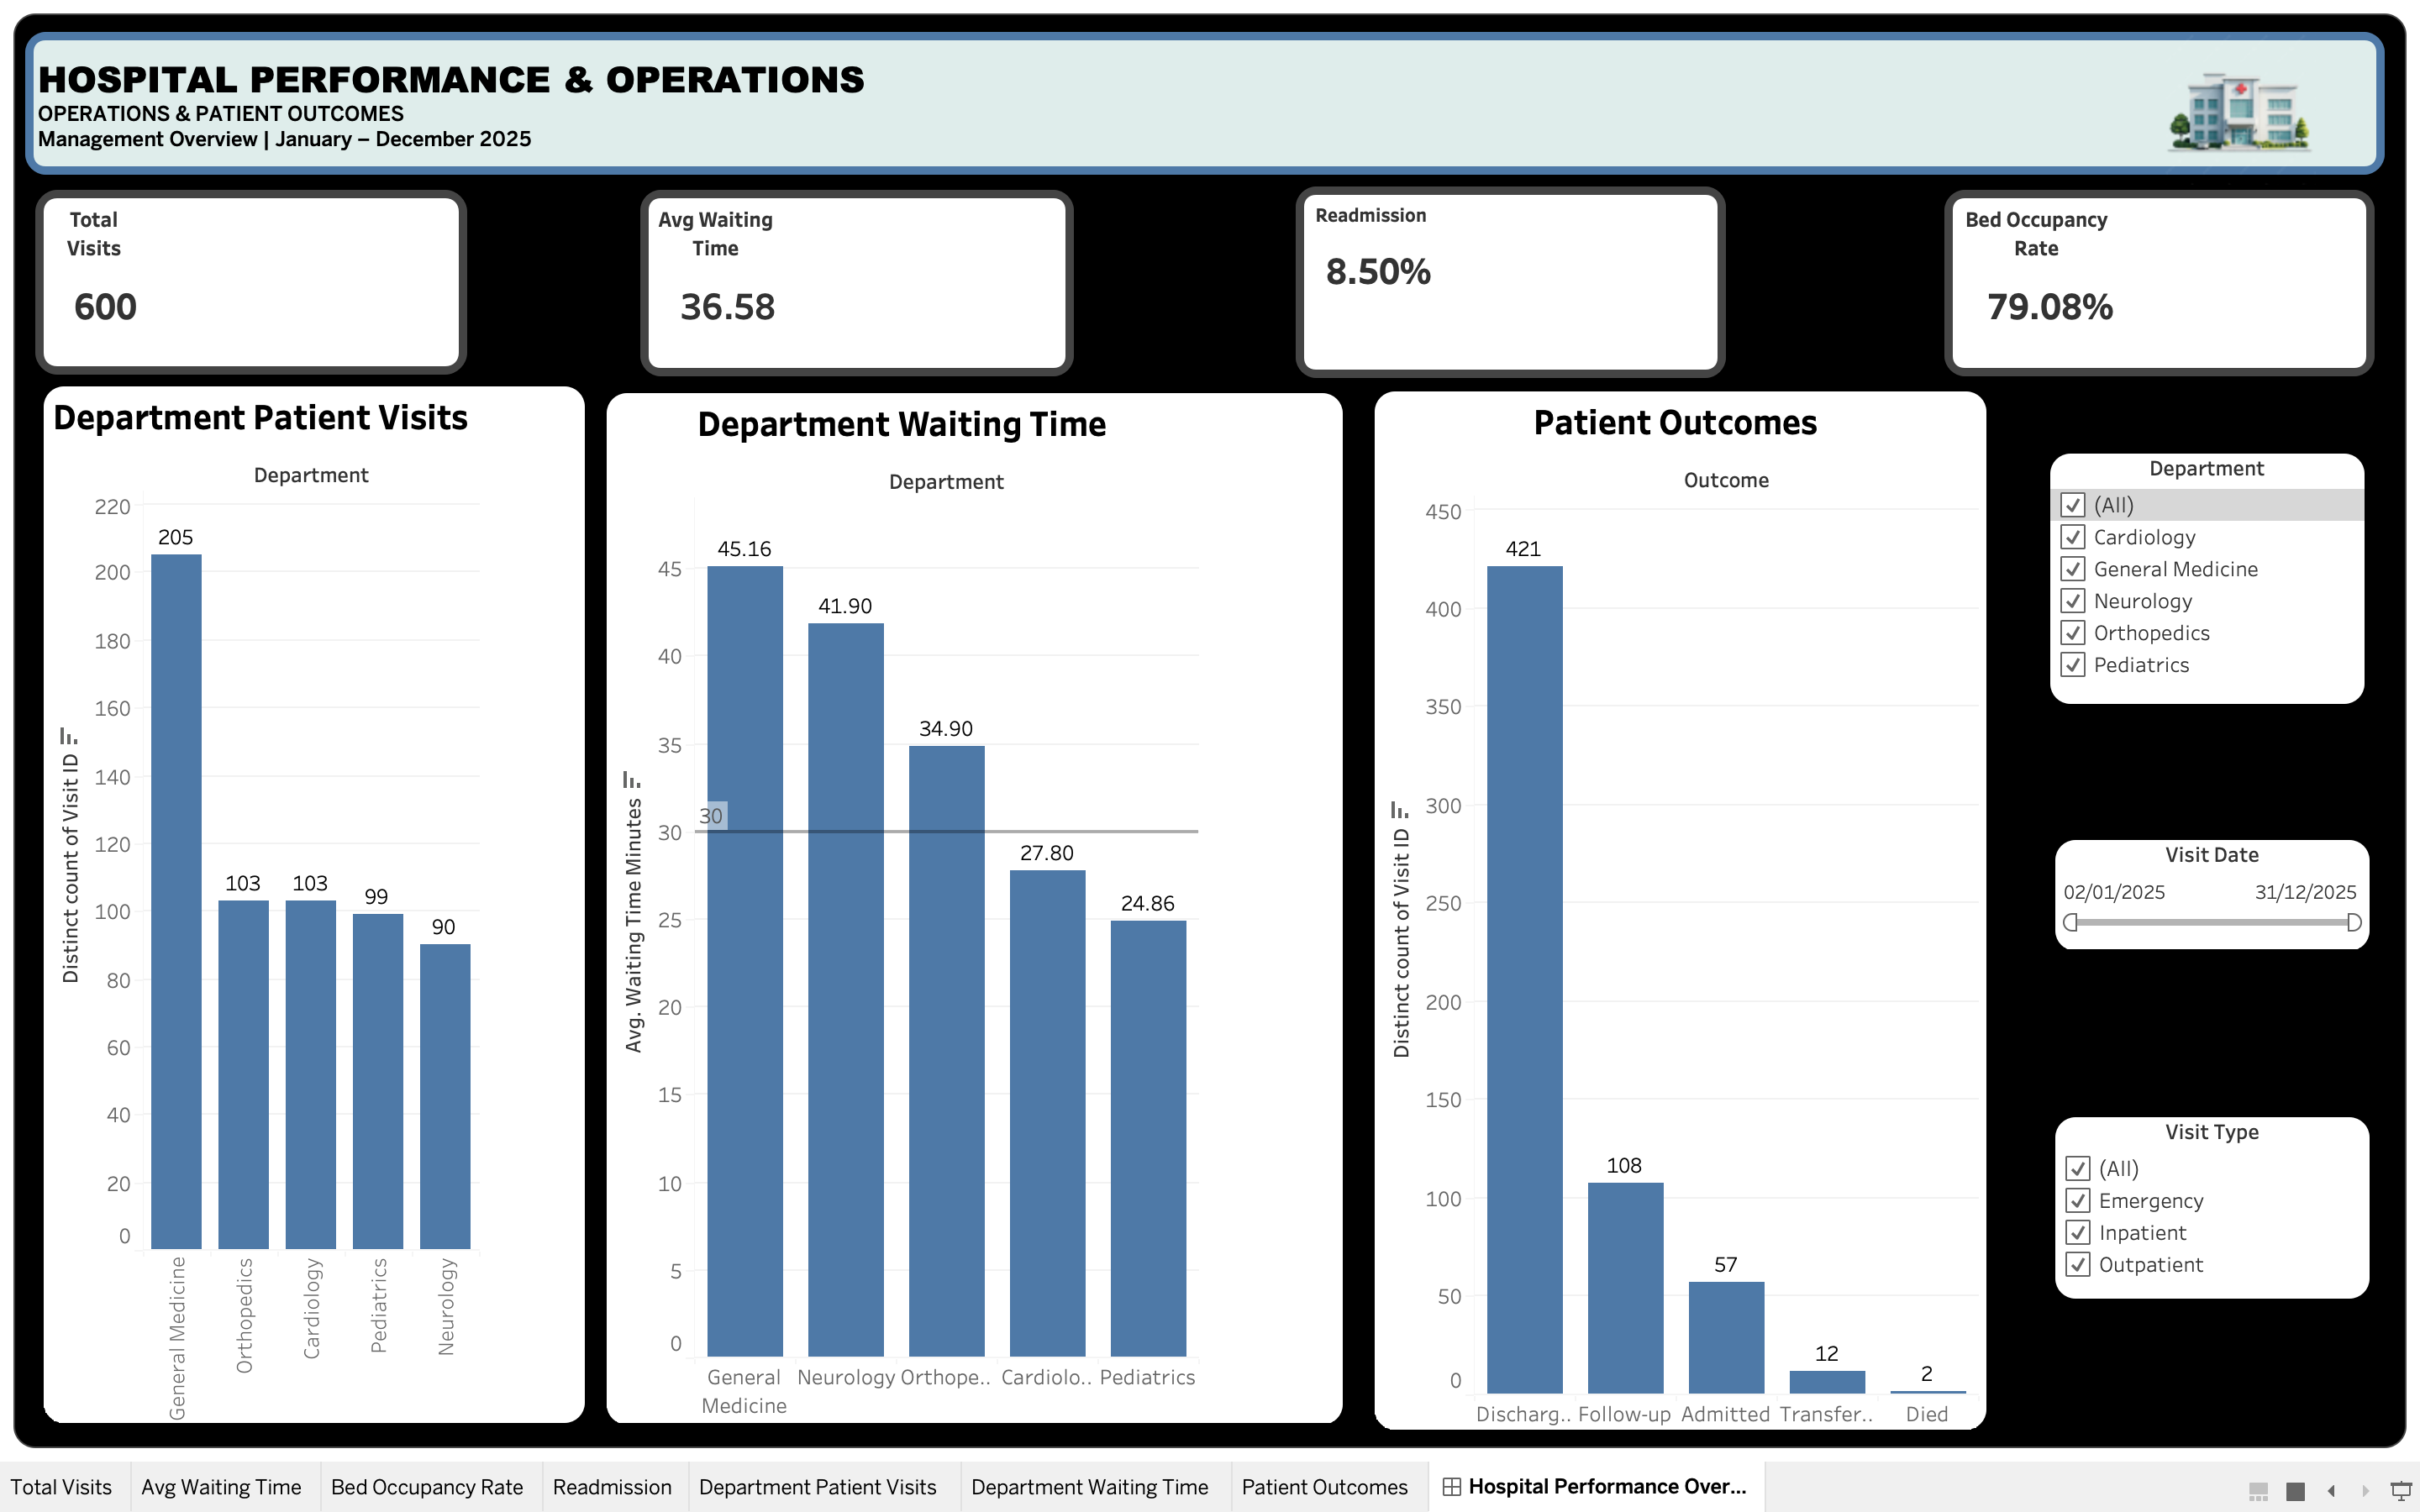

What the dashboard file says about the page in this screenshot:
{"tool":"tableau","page":{"name":"Hospital Performance Overview","canvas":[1000,1000],"units":"permille","ordinal":0},"visuals":[{"type":"image","param":"Image/pngtree-isolated-medical-clinic-and-hospital-building-vector-illustration-","box":[883.2,21,83.5,105.2]},{"type":"text","box":[10.5,22.3,974.9,97.8]},{"type":"worksheet","title":"Readmission","mark":"Automatic","box":[535.3,127.5,177.6,131.2]},{"type":"worksheet","title":"Total Visits","mark":"Automatic","box":[14.6,129.9,178.4,126.2]},{"type":"worksheet","title":"Avg Waiting Time","mark":"Automatic","box":[264.4,129.9,179.2,127.5]},{"type":"worksheet","title":"Bed Occupancy Rate","mark":"Text","box":[803.7,129.9,177.6,127.5]},{"type":"worksheet","title":"Department Patient Visits","mark":"Automatic","rows":["Visit_ID"],"cols":["Department"],"box":[17.8,264.9,223.8,709.2]},{"type":"worksheet","title":"Patient Outcomes","mark":"Bar","rows":["Visit_ID"],"cols":["Outcome"],"box":[567.7,267.3,253,710.4]},{"type":"worksheet","title":"Department Waiting Time","mark":"Automatic","rows":["Waiting_Time_Minutes"],"cols":["Department"],"box":[250.6,268.6,304.1,705.5]},{"type":"filter","title":"Department Waiting Time","param":"[federated.1wx1u1009dhcxh1aubgls1g9madm].[none:Department:nk]","box":[847.5,310.6,129.8,170.8]},{"type":"filter","title":"Department Waiting Time","param":"[federated.1wx1u1009dhcxh1aubgls1g9madm].[none:Visit_Date:qk]","box":[849.1,574.3,129.8,75.5]},{"type":"filter","title":"Department Waiting Time","param":"[federated.1wx1u1009dhcxh1aubgls1g9madm].[none:Visit_Type:nk]","box":[849.1,764.9,129.8,123.8]}]}

Visuals, with their boxes on the dashboard's canvas, which has no fixed pixel size, in thousandths of its width and height (x1, y1, x2, y2). These are canvas units, not pixel positions in the 2420x1512 screenshot, which may show the page scaled, cropped or inside an application window:
image: (883, 21, 967, 126)
text: (10, 22, 985, 120)
"Readmission" worksheet: (535, 128, 713, 259)
"Total Visits" worksheet: (15, 130, 193, 256)
"Avg Waiting Time" worksheet: (264, 130, 444, 257)
"Bed Occupancy Rate" worksheet (Text marks): (804, 130, 981, 257)
"Department Patient Visits" worksheet: (18, 265, 242, 974)
"Patient Outcomes" worksheet (Bar marks): (568, 267, 821, 978)
"Department Waiting Time" worksheet: (251, 269, 555, 974)
"Department Waiting Time" filter: (848, 311, 977, 481)
"Department Waiting Time" filter: (849, 574, 979, 650)
"Department Waiting Time" filter: (849, 765, 979, 889)
